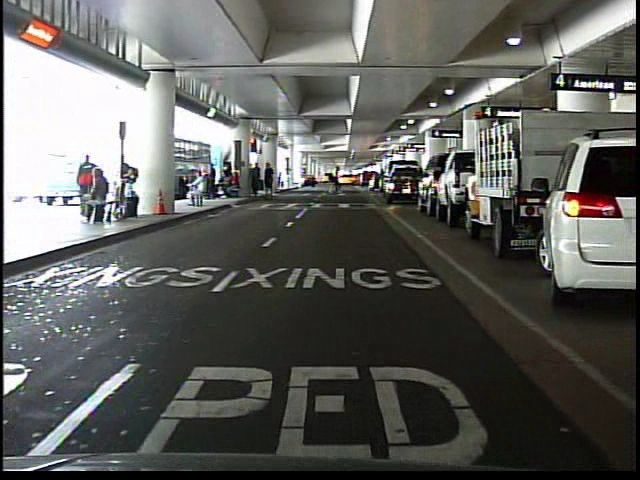person: (185, 171, 210, 208), (324, 163, 345, 196)
